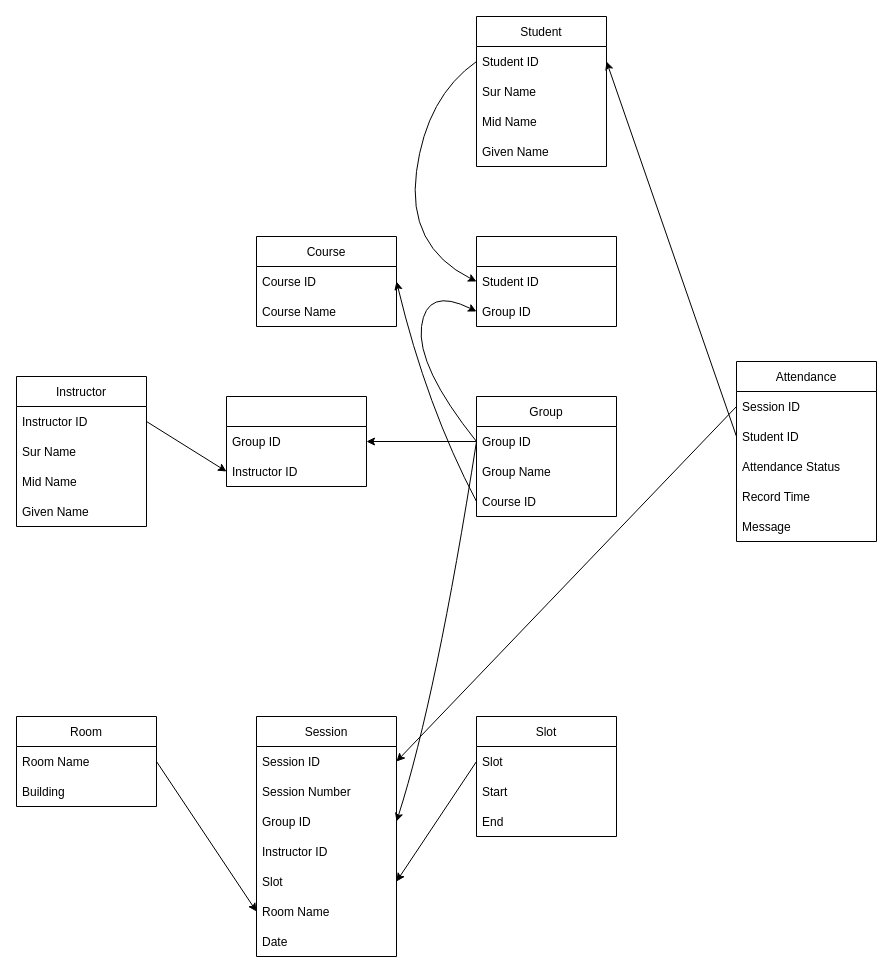
Some shapes in this 893 by 973 pixel diagram are drawn without their labels. The shapes that lost their labels are listed below. From the top down, each one's box as (x1, y1, x2, y2) in pixels, then its label:
(476, 236, 616, 326): Enroll
(226, 396, 366, 486): Supervise
